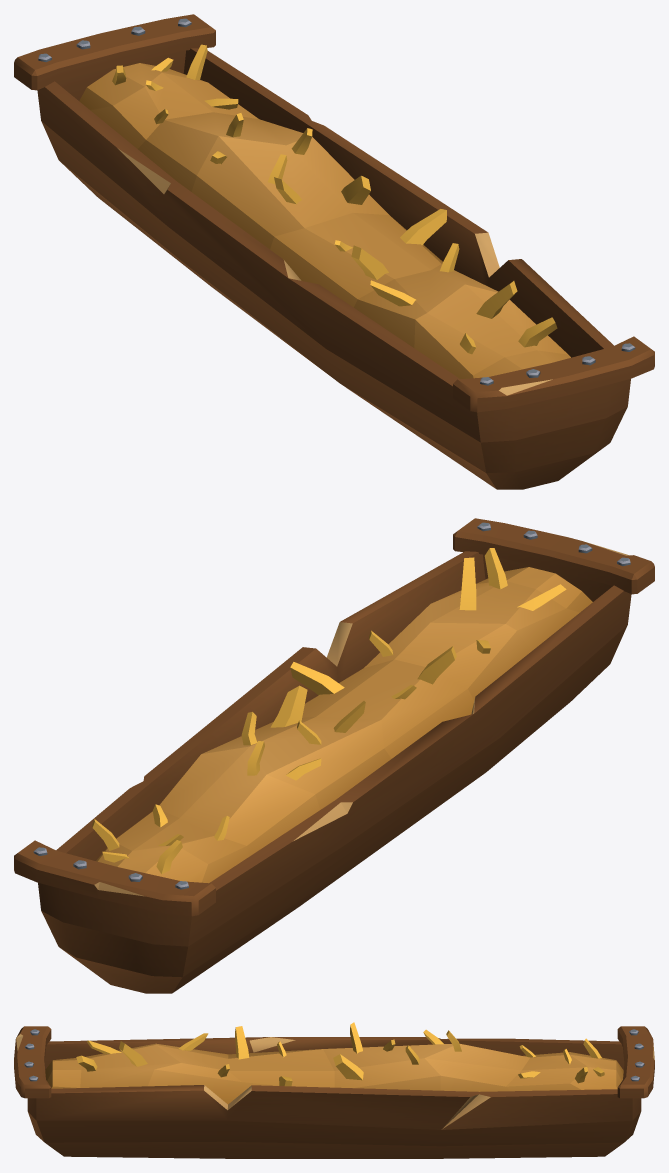
The model's file is Trough_2_E.glb.
The picture shows the model from 3 angles, top to bottom: view 1: azimuth 30°, elevation 25°; view 2: azimuth 150°, elevation 25°; view 3: azimuth 270°, elevation 25°; orthographic projection. The views are drawn at different scales.
Parts seen in each view (by area): view 1: Trough_2_E; view 2: Trough_2_E; view 3: Trough_2_E.
Part boxes in pixels (box(x1,y1,x2,y2)): Trough_2_E: box(14, 14, 654, 489); Trough_2_E: box(14, 518, 654, 993); Trough_2_E: box(14, 1022, 654, 1158).
Size of the model in its own units: 0.7368 by 0.6149 by 3.25.
Materials: 2 (2 with a texture image).
